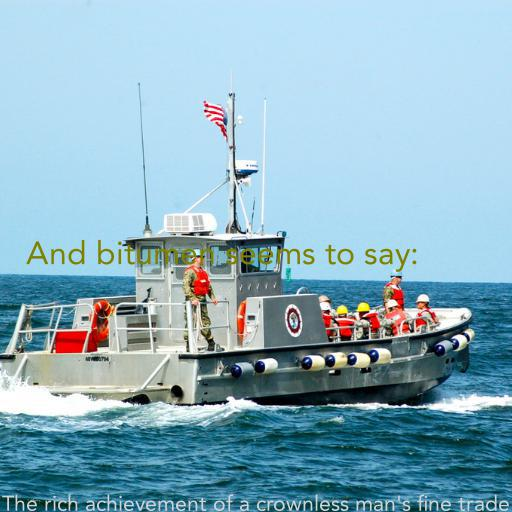Avenir: (25, 239, 419, 272), (2, 494, 510, 512)
